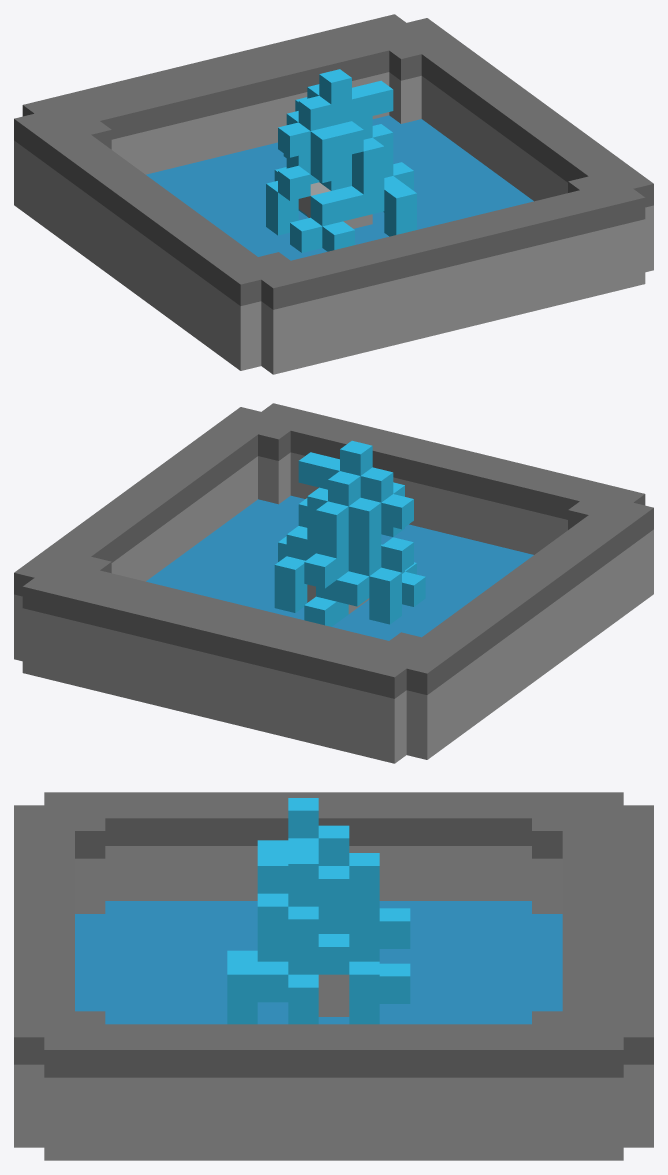
File: fountain.obj
3 views of the same model, one above another, from view 1: azimuth 30°, elevation 25°; view 2: azimuth 150°, elevation 25°; view 3: azimuth 270°, elevation 25° (orthographic). The views are drawn at different scales.
Size of the model in its own units: 2 by 0.8 by 2.1.
Materials: 1 (1 with a texture image).
